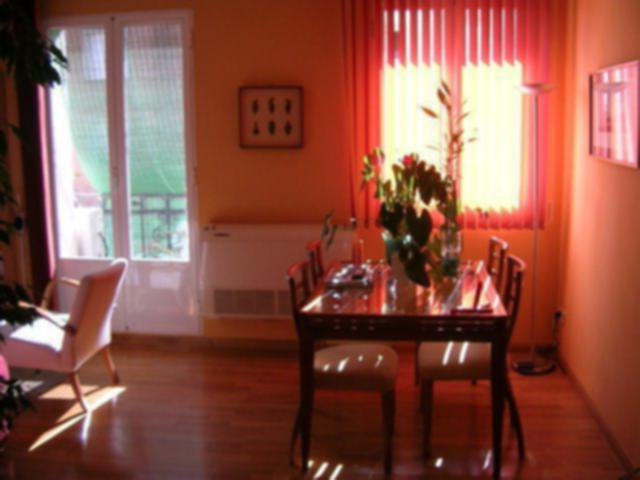Puerta: (53, 14, 184, 329)
